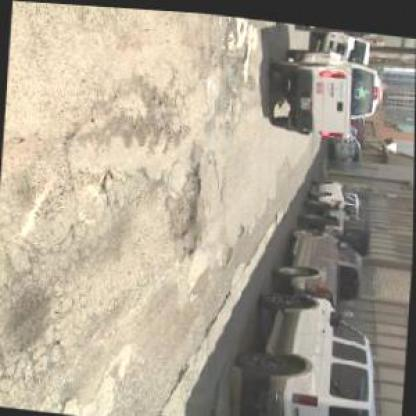pothole: (172, 158, 207, 237), (178, 232, 201, 256), (238, 37, 254, 64)
